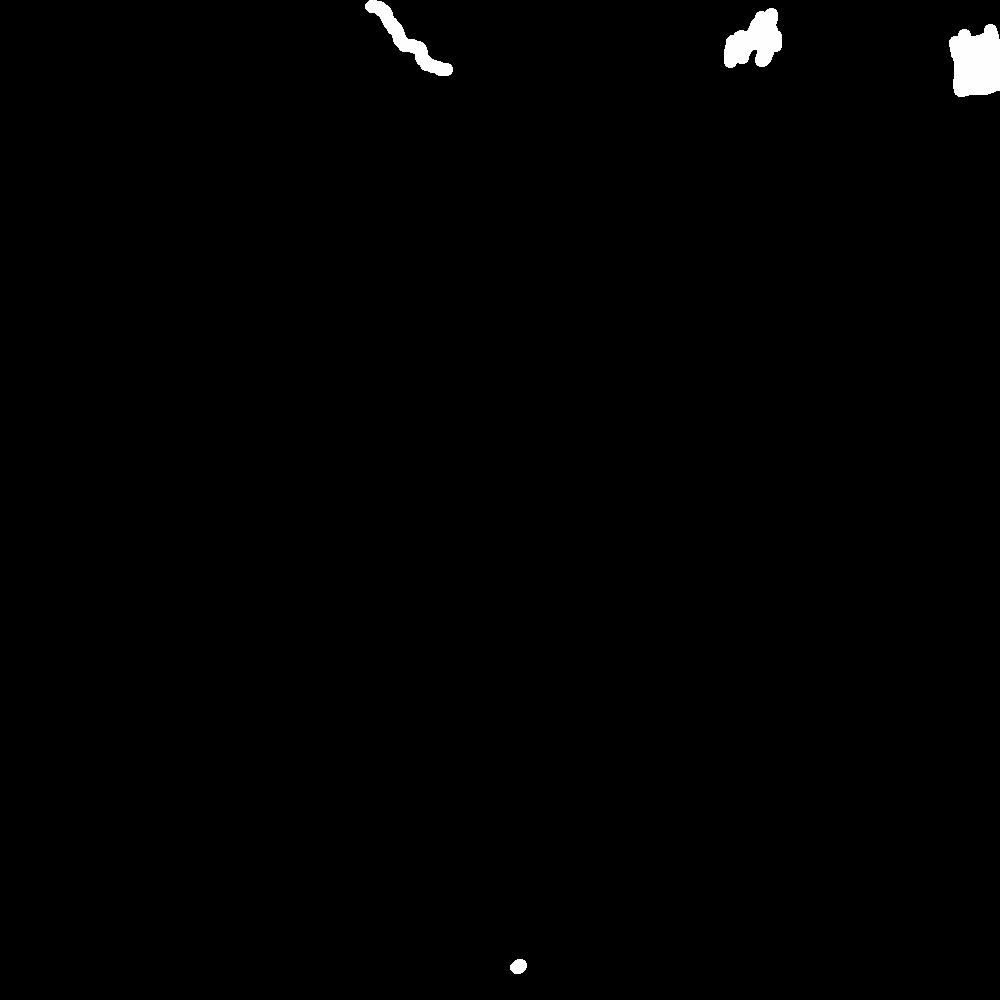illegal: (355, 1, 455, 80), (947, 1, 1000, 103), (722, 12, 786, 70)
